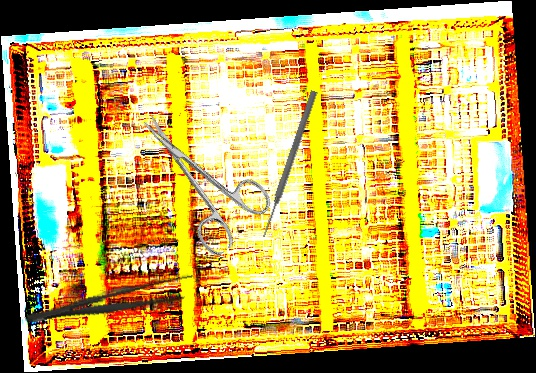Dressing Forceps: (22, 270, 198, 333)
Iris Scissors: (117, 90, 280, 260)
Pusher: (259, 89, 319, 239)
